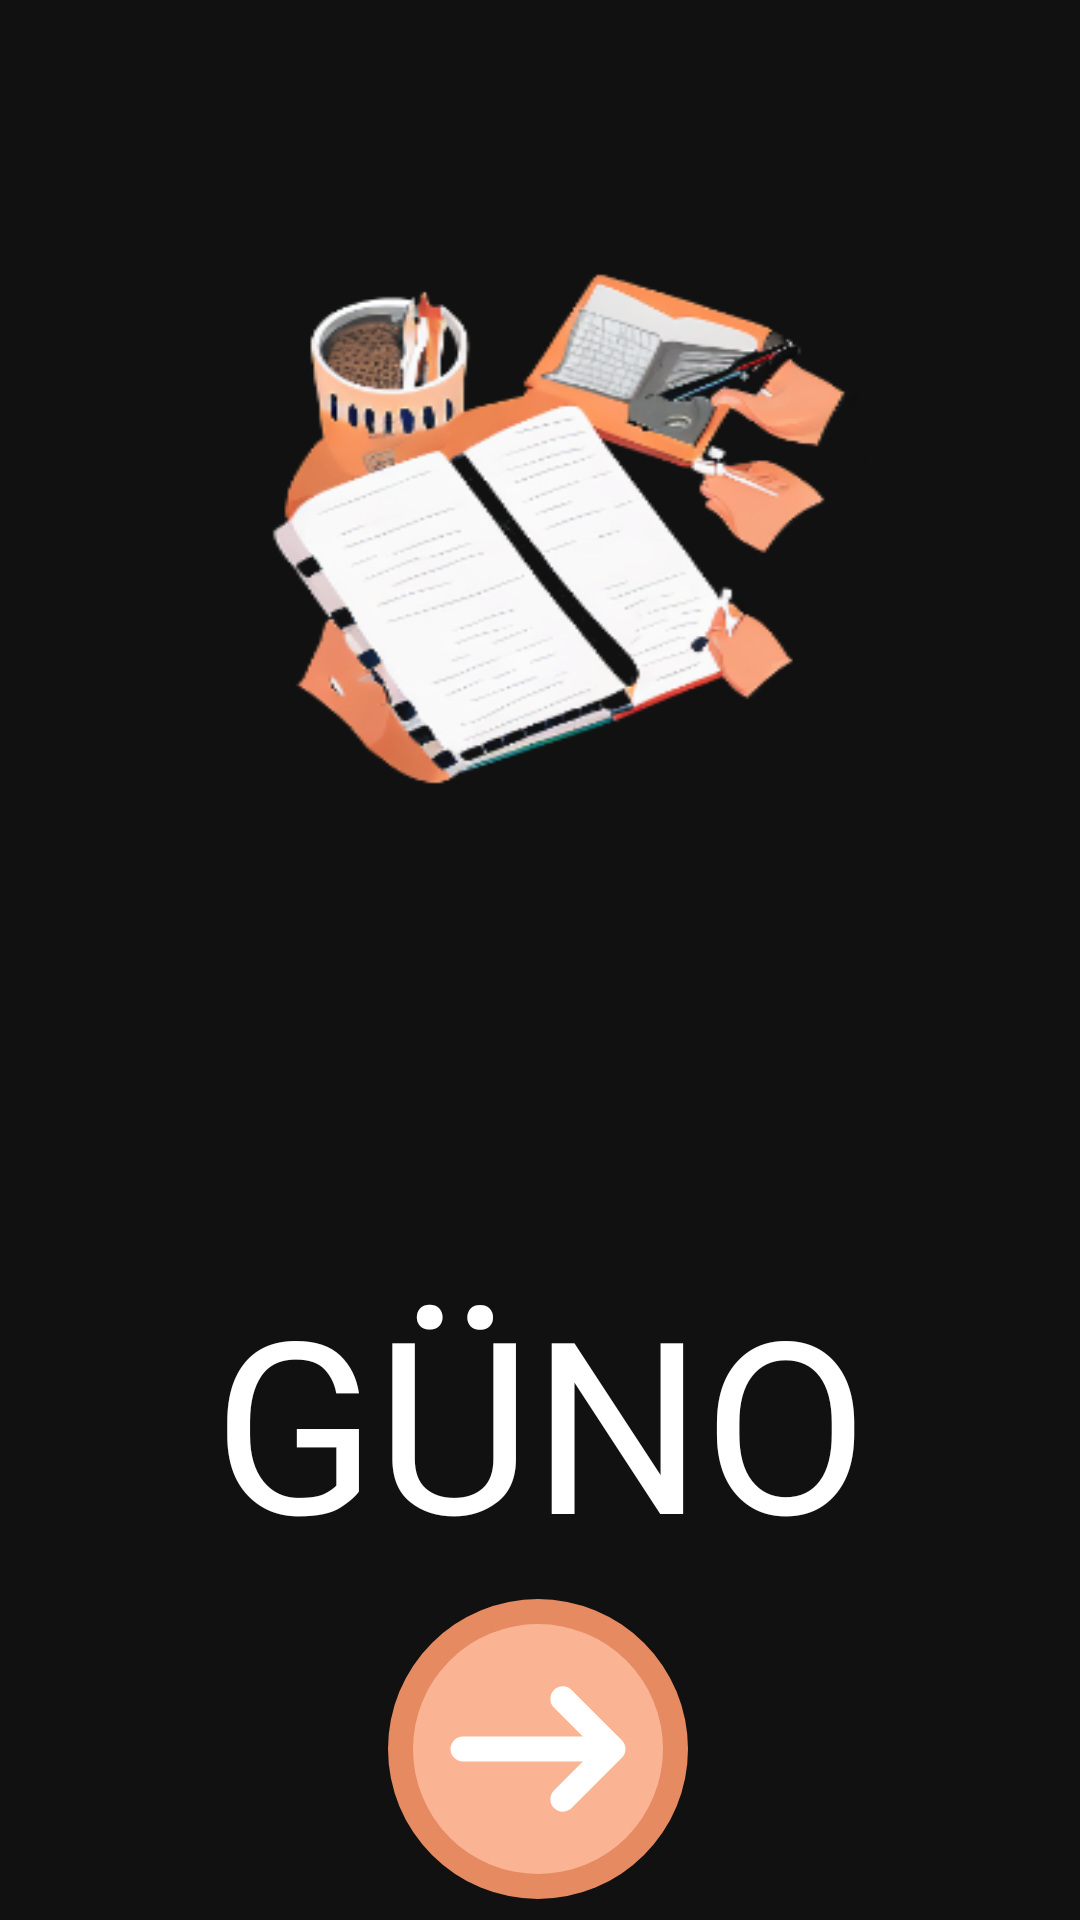

Icons on this 1080 × 1920 Android screen, each with the point to tap as (x,y):
right next: (538,1749)
